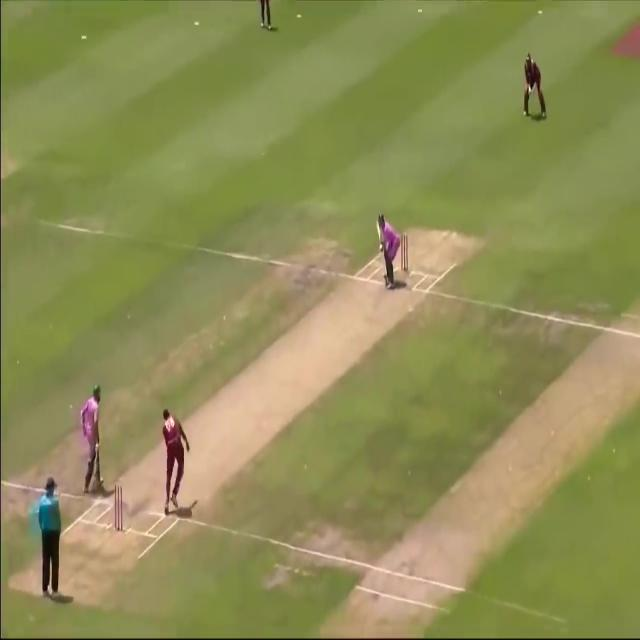Ball: (70, 379, 114, 494), (372, 210, 406, 290)
Fielder: (156, 406, 195, 516), (518, 53, 548, 119)
Umpire: (26, 473, 72, 602)
